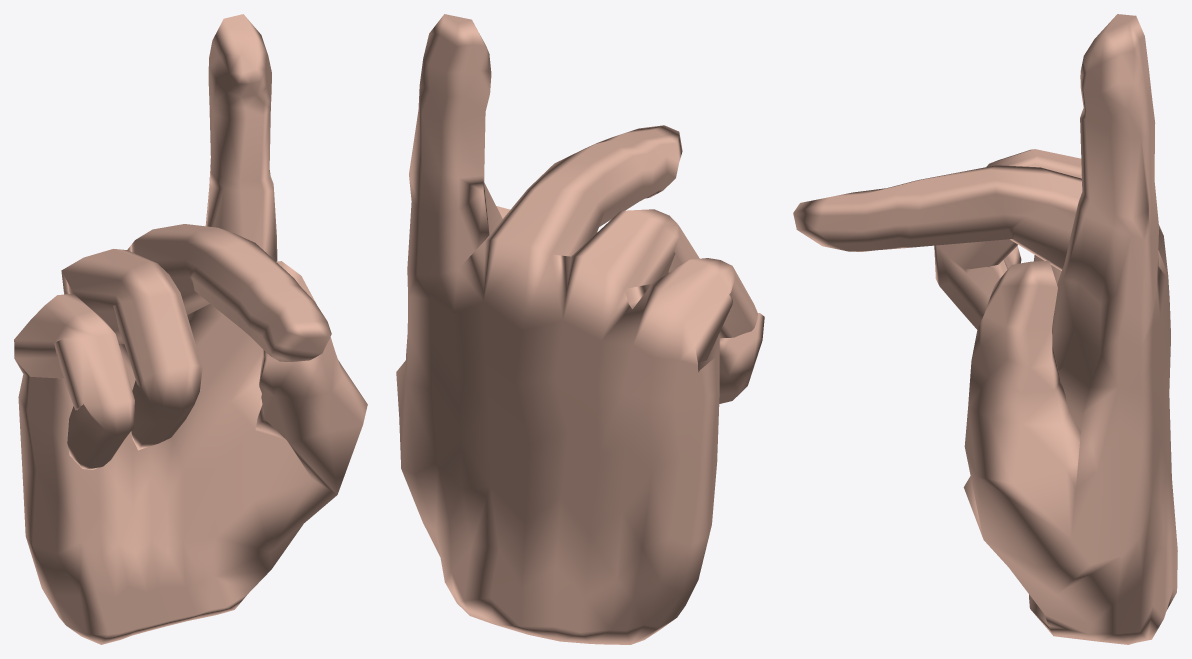
The model's file is MAO_K.obj.
3 views of the same model, side by side, from view 1: azimuth 30°, elevation 25°; view 2: azimuth 150°, elevation 25°; view 3: azimuth 270°, elevation 25° (orthographic). The views are drawn at different scales.
Parts seen in each view (by area): view 1: mao_dir:mao_dir; view 2: mao_dir:mao_dir; view 3: mao_dir:mao_dir.
Boxes of the visible parts, x1=… form: mao_dir:mao_dir: x1=14, y1=14, x2=367, y2=644; mao_dir:mao_dir: x1=396, y1=14, x2=764, y2=644; mao_dir:mao_dir: x1=793, y1=14, x2=1177, y2=644.
Size of the model in its own units: 132 by 227 by 124.
